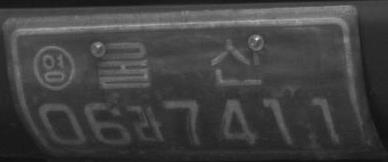0: (37, 101, 87, 147)
1: (304, 96, 346, 146), (259, 96, 299, 147)
4: (214, 97, 259, 146)
6: (86, 100, 132, 147)
7: (164, 98, 203, 147)
라: (132, 103, 164, 146)
영: (31, 45, 76, 91)
울산_D: (95, 34, 263, 89)
